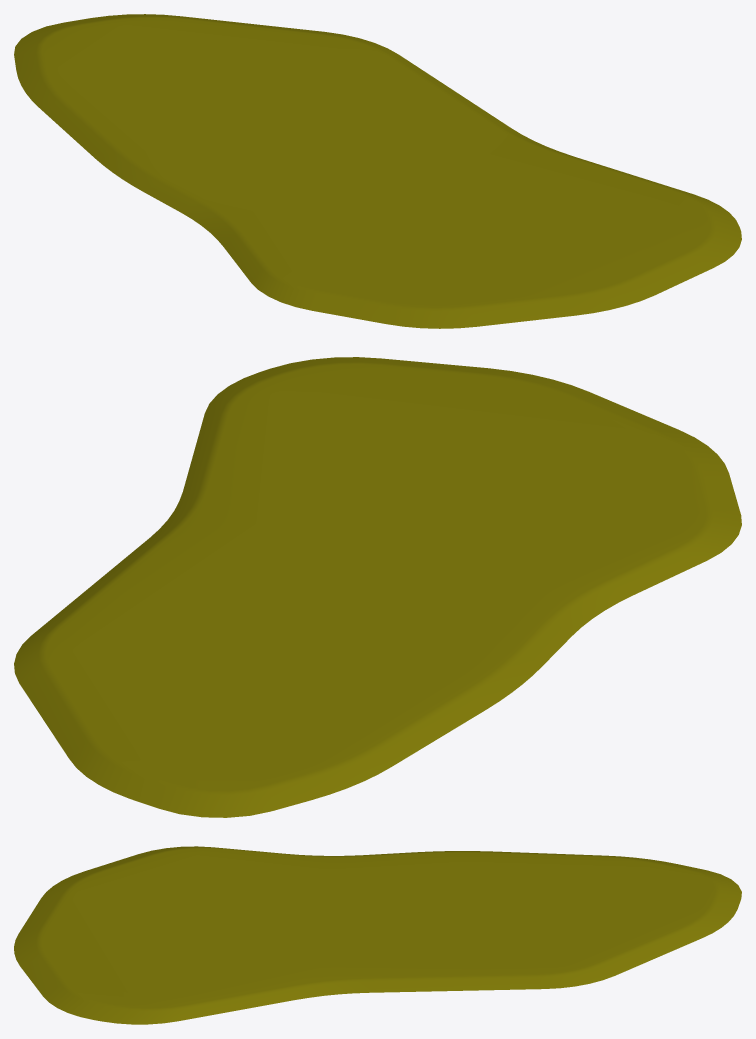
File: GroundPadding02_4.fbx
3 views of the same model, one above another, from view 1: azimuth 30°, elevation 25°; view 2: azimuth 150°, elevation 25°; view 3: azimuth 270°, elevation 25° (orthographic). The views are drawn at different scales.
Parts seen in each view (by area): view 1: LOD0; view 2: LOD0; view 3: LOD0.
Part boxes in pixels (x1,y1,x2,y2): LOD0: (14, 14, 741, 328); LOD0: (14, 357, 741, 817); LOD0: (14, 846, 741, 1024).
Size of what is drawn, in the model's own units: 1167 by 2016 by 20.52.
1 material, 1 textured.
